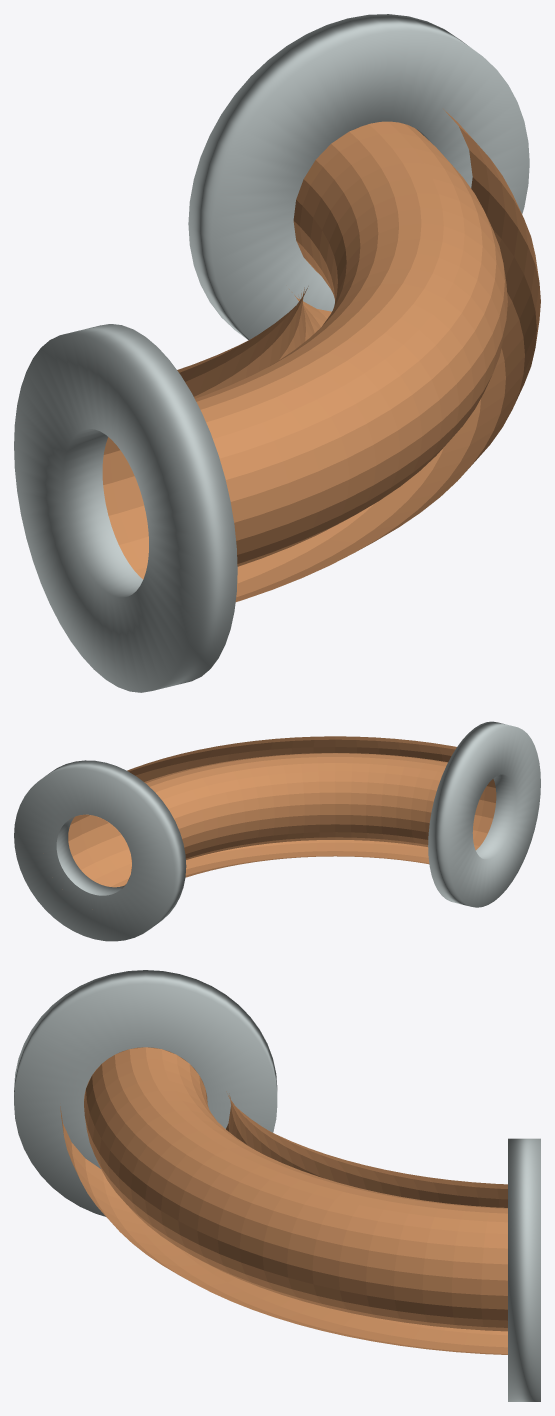
Rendered from generation-ship-hydroponics-generation-ship-hydroponic-d26fadc3__31491.glb.
3 views of the same model, one above another, from view 1: azimuth 30°, elevation 25°; view 2: azimuth 150°, elevation 25°; view 3: azimuth 270°, elevation 25° (orthographic). The views are drawn at different scales.
Parts seen in each view (by area): view 1: generation-ship-hydroponics-irrigation-elbow; view 2: generation-ship-hydroponics-irrigation-elbow; view 3: generation-ship-hydroponics-irrigation-elbow.
Boxes of the visible parts, x1,y1,x2,y2 form: generation-ship-hydroponics-irrigation-elbow: (14,14,540,692); generation-ship-hydroponics-irrigation-elbow: (14,721,540,941); generation-ship-hydroponics-irrigation-elbow: (14,970,540,1401).
Bounding box in the file's own units: 0.425 × 0.2 × 0.4.
